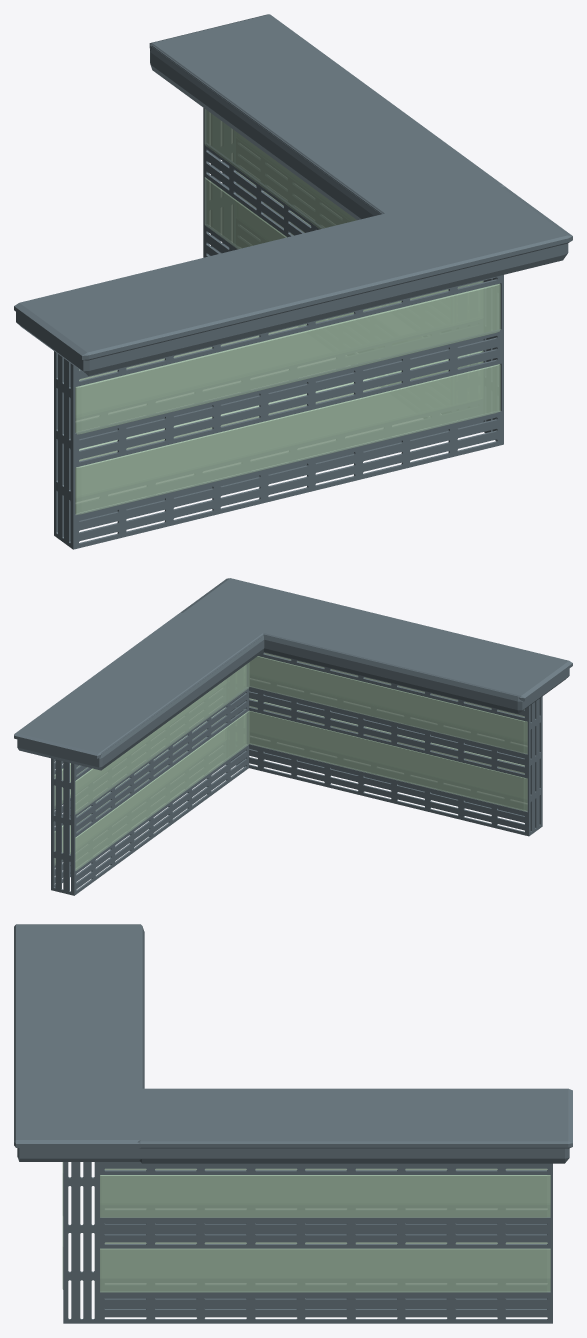
Rendered from sci fi bar.fbx.
The picture shows the model from 3 angles, top to bottom: view 1: azimuth 30°, elevation 25°; view 2: azimuth 150°, elevation 25°; view 3: azimuth 270°, elevation 25°; orthographic projection. The views are drawn at different scales.
Visible parts, largest first — view 1: polySurface2224; view 2: polySurface2224; view 3: polySurface2224.
Boxes of the visible parts, x1,y1,x2,y2 form: polySurface2224: (14,14,572,549); polySurface2224: (14,578,572,895); polySurface2224: (14,924,572,1323).
Bounding box in the file's own units: 775 × 330 × 834.
